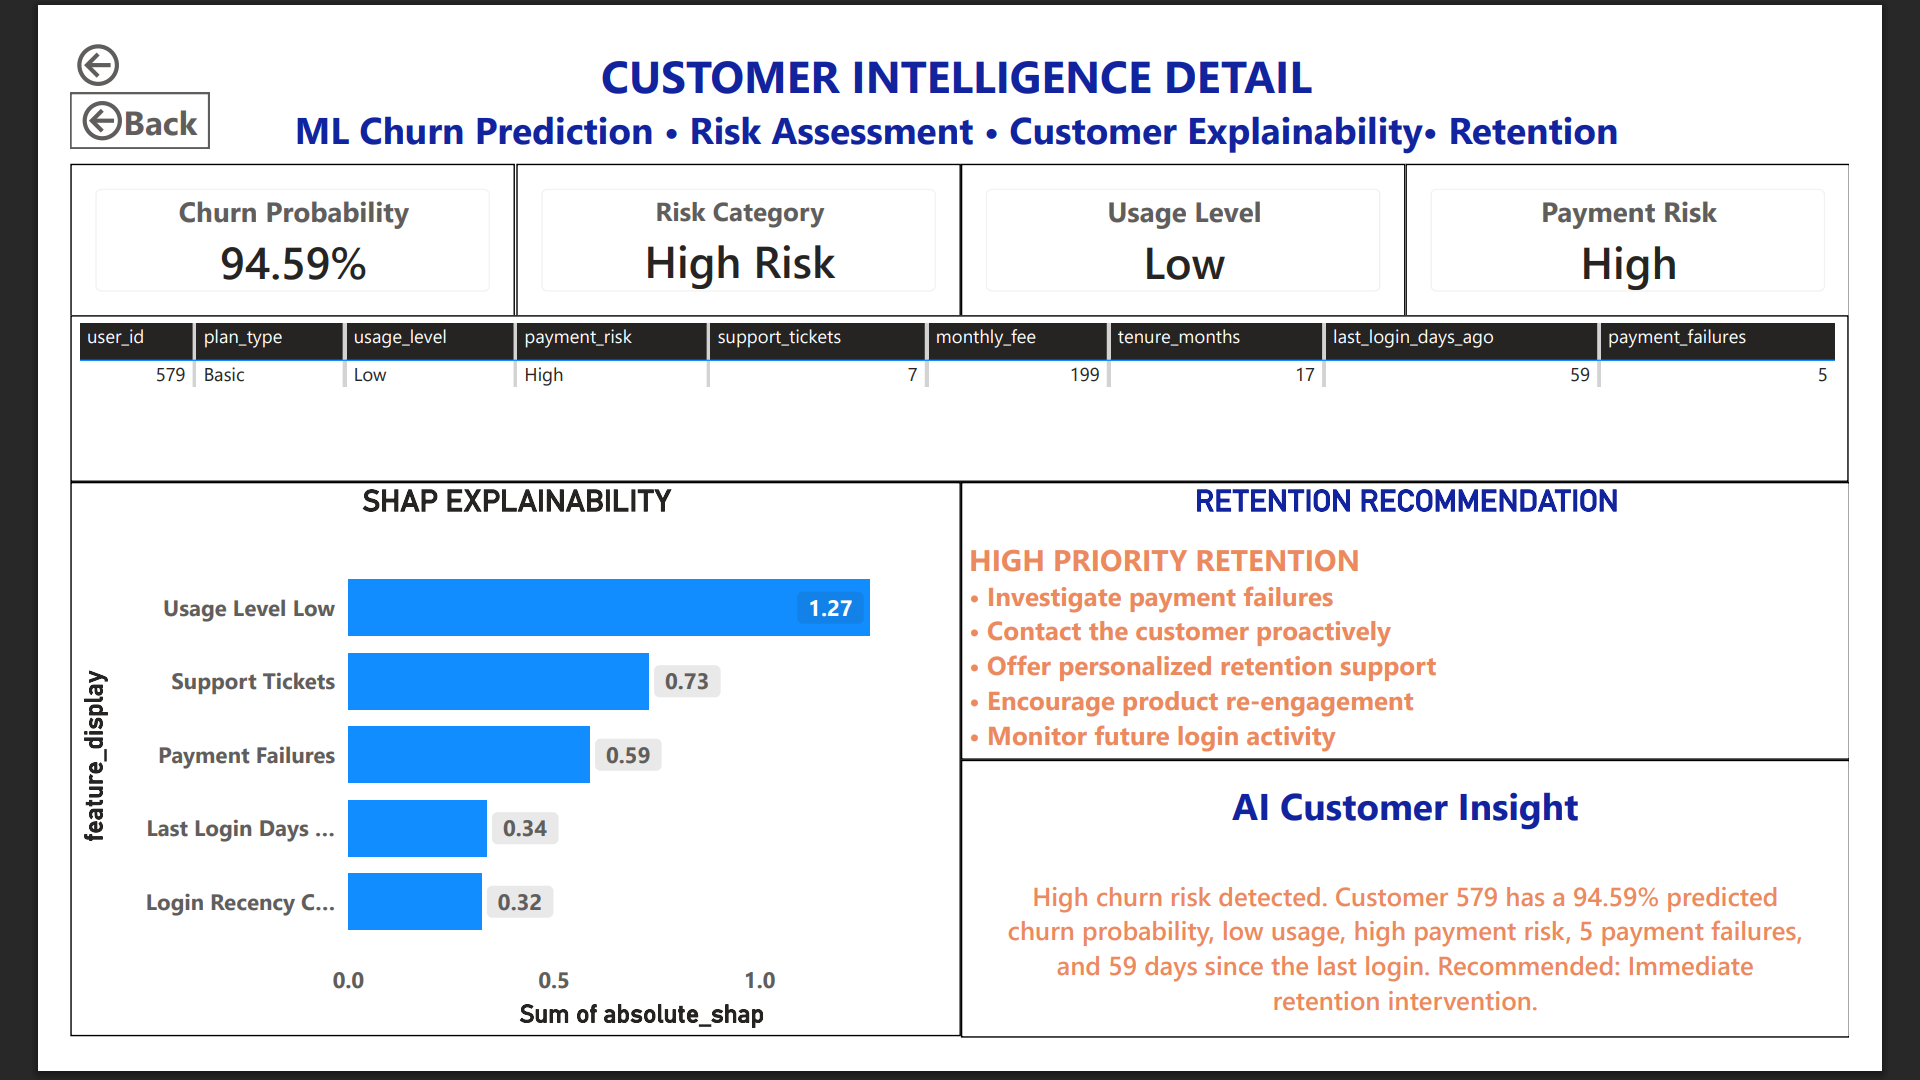

Layout of this report page (visuals, bound fields, positions):
{"tool":"powerbi","page":{"name":"Customer Intelligence Detail","canvas":[1280,720],"ordinal":2},"visuals":[{"type":"actionButton","box":[0,0,100,40],"z":0},{"type":"textbox","box":[148.2,0,980,90],"z":1000},{"type":"cardVisual","fields":{"Data":["Avg(Customer Churn.churn_probability)"]},"box":[0,90.6,320,110],"z":2000},{"type":"cardVisual","fields":{"Data":["Min(Customer Churn.predicted_risk_category)"]},"box":[321.1,90.6,320,110],"z":3000},{"type":"cardVisual","fields":{"Data":["Min(Customer Churn.usage_level)"]},"box":[640.8,90.6,320,110],"z":4000},{"type":"cardVisual","fields":{"Data":["Min(Customer Churn.payment_risk)"]},"box":[960.6,90.6,320,110],"z":5000},{"type":"tableEx","fields":{"Values":["Customer Churn.user_id","Customer Churn.plan_type","Customer Churn.usage_level","Customer Churn.payment_risk","Customer Churn.support_tickets","Customer Churn.monthly_fee","Customer Churn.tenure_months","Customer Churn.last_login_days_ago","Customer Churn.payment_failures"]},"box":[0,200.3,1280.3,120],"z":6000},{"type":"textbox","title":"RETENTION RECOMMENDATION","box":[640.8,319.7,640,200],"z":6006},{"type":"actionButton","box":[0,39.8,100,40],"z":6008},{"type":"cardVisual","fields":{"Data":["Customer Churn.AI Customer Insight"]},"box":[640.8,520.1,640,200],"z":6009},{"type":"clusteredBarChart","title":"SHAP EXPLAINABILITY","fields":{"Category":["customer_shap_explanations.feature_display"],"Y":["Sum(customer_shap_explanations.absolute_shap)"]},"box":[0,319.7,640.8,399.3],"z":6010}]}

Visuals, with their boxes in screenshot pixels (x1, y1, x2, y2), scaled from the page's 1280x720 canvas onto the 1920x1080 screenshot:
actionButton: BBox(0, 0, 150, 60)
textbox: BBox(222, 0, 1692, 135)
cardVisual - Avg(Customer Churn.churn_probability): BBox(0, 136, 480, 301)
cardVisual - Min(Customer Churn.predicted_risk_category): BBox(482, 136, 962, 301)
cardVisual - Min(Customer Churn.usage_level): BBox(961, 136, 1441, 301)
cardVisual - Min(Customer Churn.payment_risk): BBox(1441, 136, 1919, 301)
tableEx - Customer Churn.user_id x Customer Churn.plan_type: BBox(0, 300, 1919, 480)
"RETENTION RECOMMENDATION" textbox: BBox(961, 480, 1919, 780)
actionButton: BBox(0, 60, 150, 120)
cardVisual - Customer Churn.AI Customer Insight: BBox(961, 780, 1919, 1079)
"SHAP EXPLAINABILITY" clusteredBarChart: BBox(0, 480, 961, 1078)
